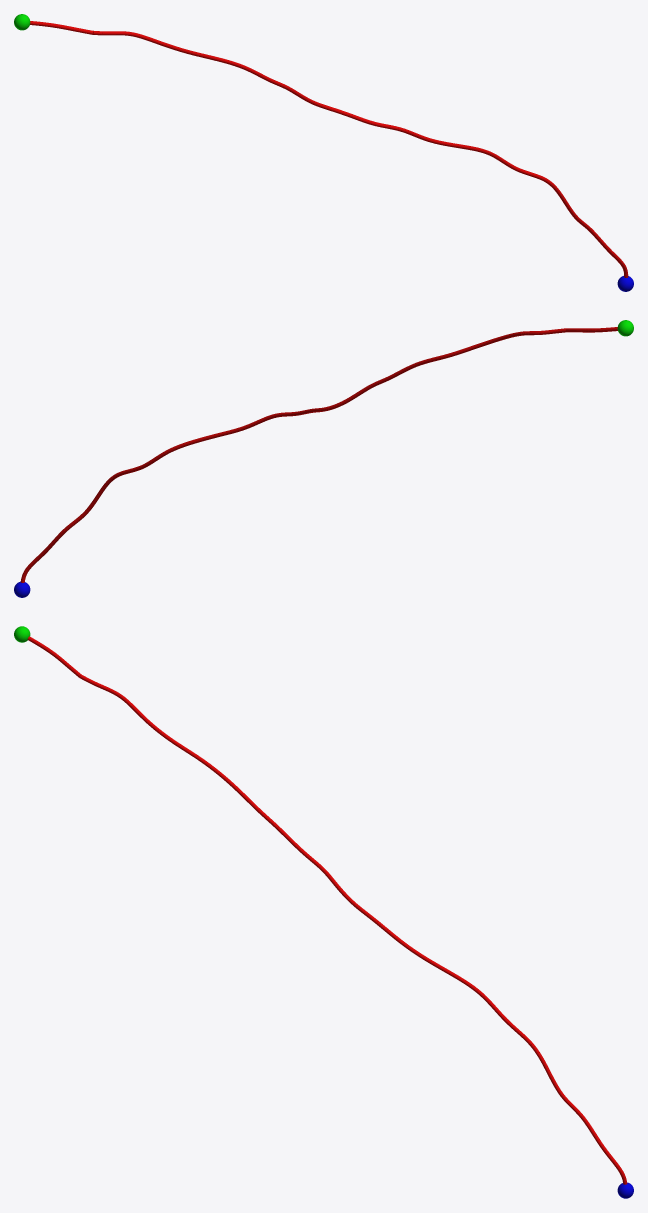
The model's file is paths.obj.
3 renders of one model, top to bottom at view 1: azimuth 30°, elevation 25°; view 2: azimuth 150°, elevation 25°; view 3: azimuth 330°, elevation 25°, orthographic.
Bounding box in the file's own units: 1.74 × 1.14 × 0.0894.
